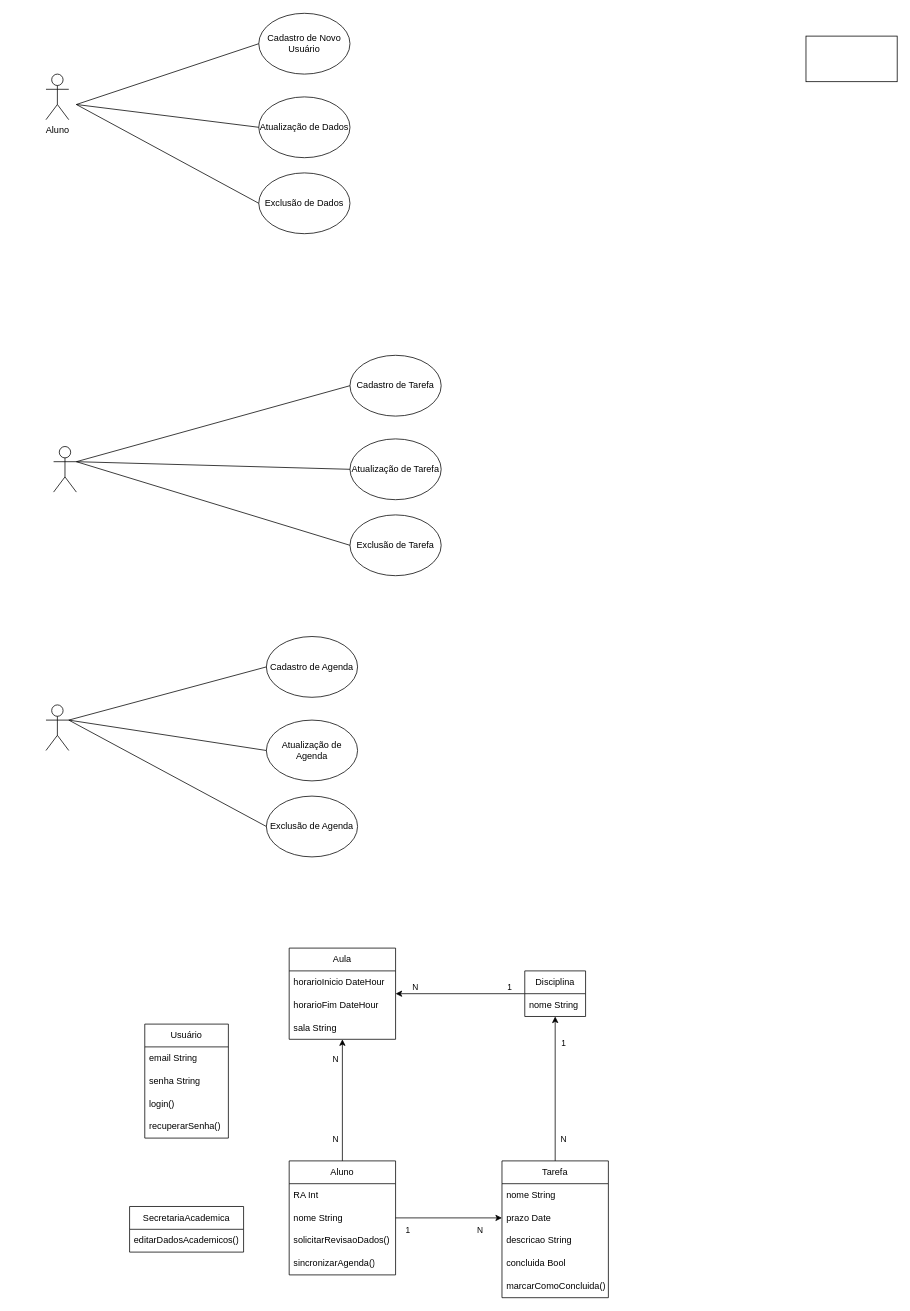
Some shapes in this 910 by 1311 pixel diagram are drawn without their labels. Here are the shapes that lost their labels. From the top down, the centre of each, then its label:
point (64, 469): Professor
point (57, 727): Secretaria Acadêmica
